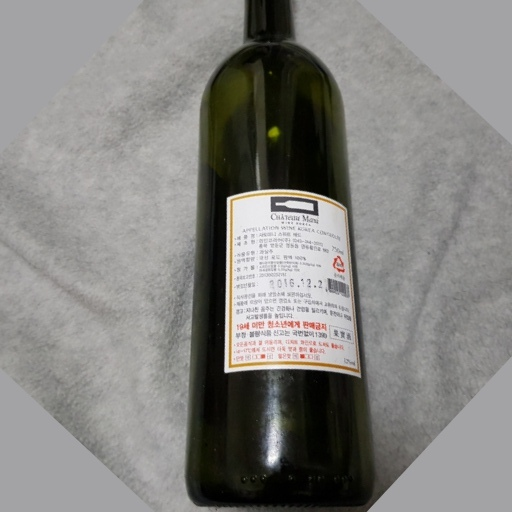Glass_2: (182, 2, 376, 512)
